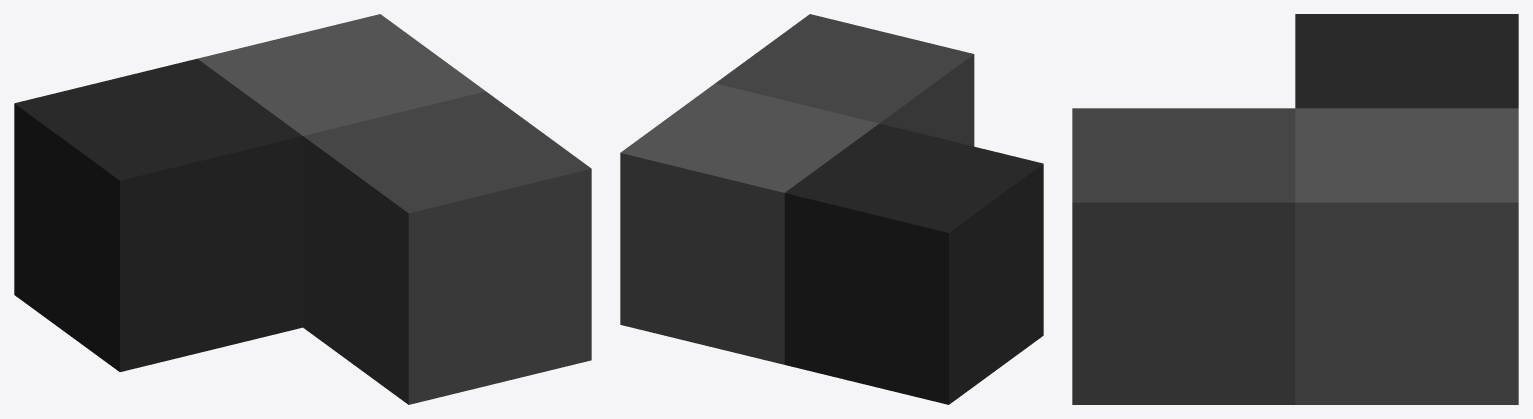
Rendered from smoke.obj.
3 views of the same model, side by side, from view 1: azimuth 30°, elevation 25°; view 2: azimuth 150°, elevation 25°; view 3: azimuth 270°, elevation 25° (orthographic). The views are drawn at different scales.
Bounding box in the file's own units: 0.2 × 0.1 × 0.2.
Materials: 1 (1 with a texture image).
